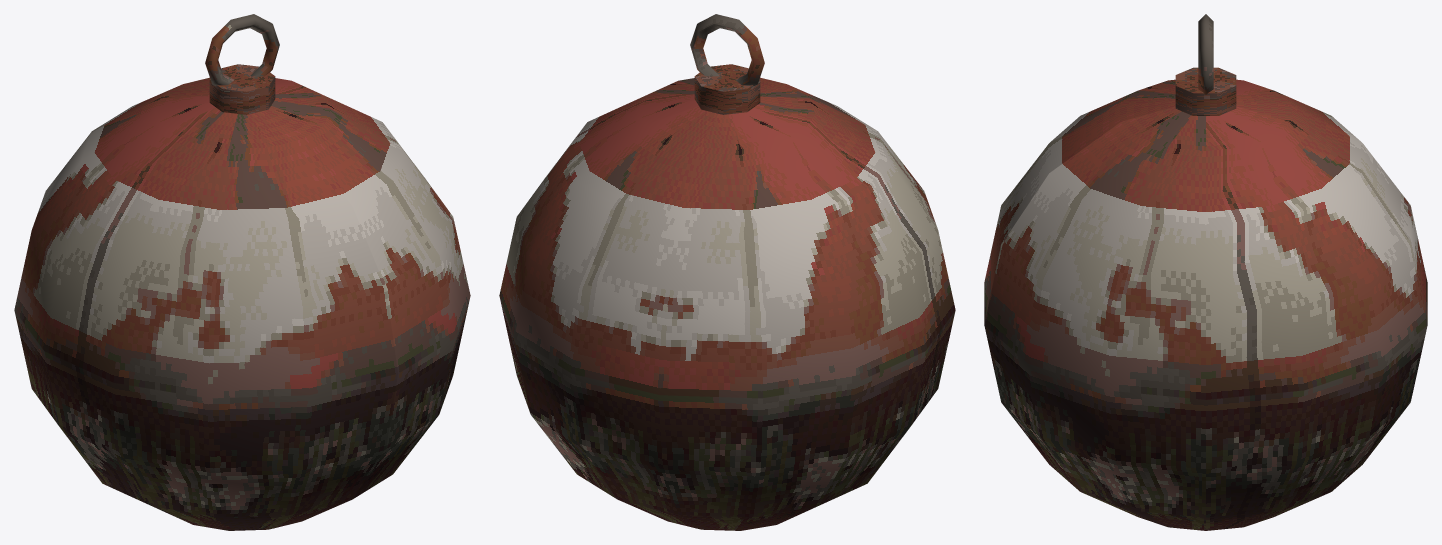
Rendered from buoy_mooring.glb.
The picture shows the model from 3 angles, left to right: view 1: azimuth 30°, elevation 25°; view 2: azimuth 150°, elevation 25°; view 3: azimuth 270°, elevation 25°; orthographic projection.
Parts seen in each view (by area): view 1: buoy_mooring; view 2: buoy_mooring; view 3: buoy_mooring.
Part boxes in pixels (bbox=[...]): buoy_mooring: bbox=[14, 14, 470, 530]; buoy_mooring: bbox=[499, 14, 955, 530]; buoy_mooring: bbox=[984, 14, 1427, 530].
Size of the model in its own units: 0.9 by 1.06 by 0.8774.
1 material, 1 textured.
